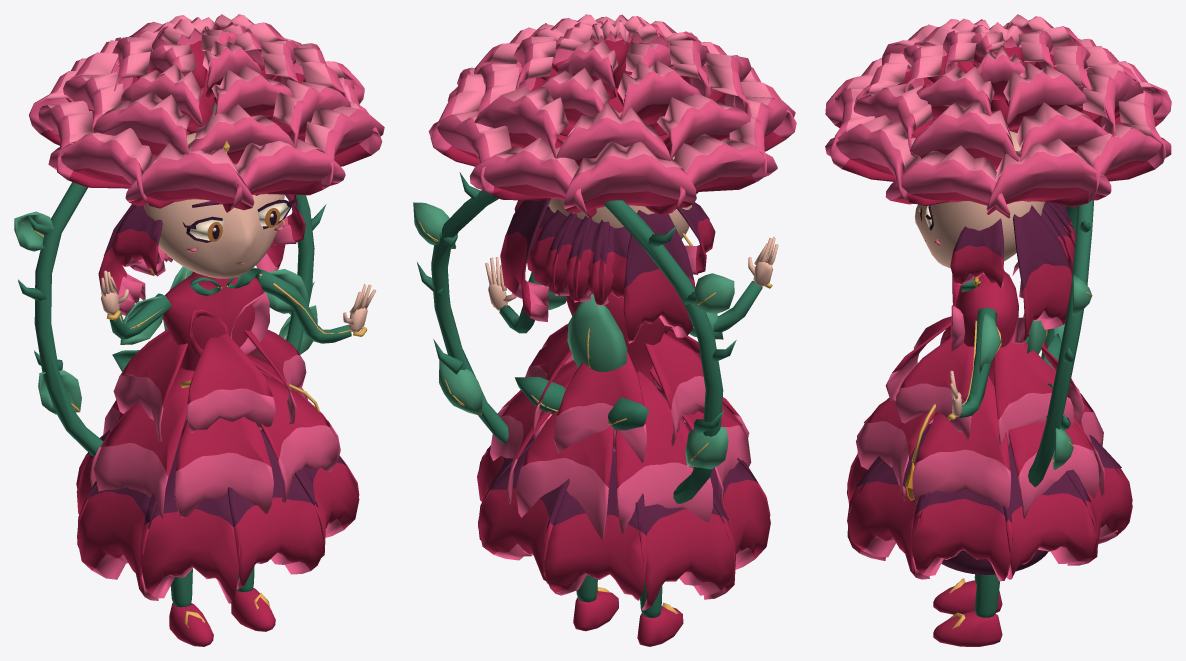
3 renders of one model, left to right at view 1: azimuth 30°, elevation 25°; view 2: azimuth 150°, elevation 25°; view 3: azimuth 270°, elevation 25°, orthographic. The views are drawn at different scales.
Parts seen in each view (by area): view 1: NightMarketPlayable_0128; view 2: NightMarketPlayable_0128; view 3: NightMarketPlayable_0128.
Boxes of the visible parts, x1,y1,x2,y2 form: NightMarketPlayable_0128: [14, 14, 384, 646]; NightMarketPlayable_0128: [413, 14, 796, 646]; NightMarketPlayable_0128: [825, 14, 1171, 646].
Bounding box in the file's own units: 2.45 × 4.48 × 2.35.
